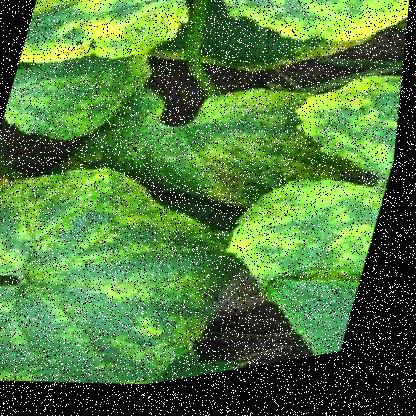DownyMildew: (0, 148, 218, 411), (29, 0, 415, 88), (246, 78, 405, 291)
